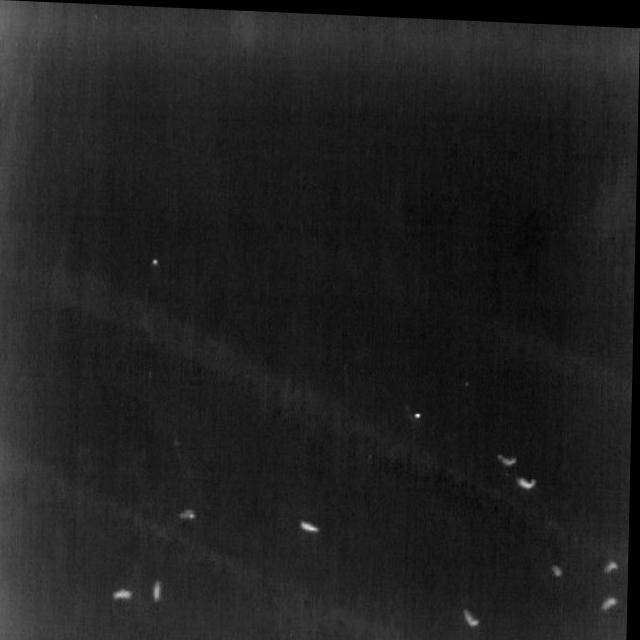deer: (466, 604, 483, 623), (518, 472, 539, 486), (115, 586, 136, 600), (302, 517, 321, 531), (499, 449, 519, 462), (603, 590, 620, 605), (180, 506, 198, 519), (155, 579, 166, 600), (606, 554, 620, 567), (553, 559, 566, 571)
